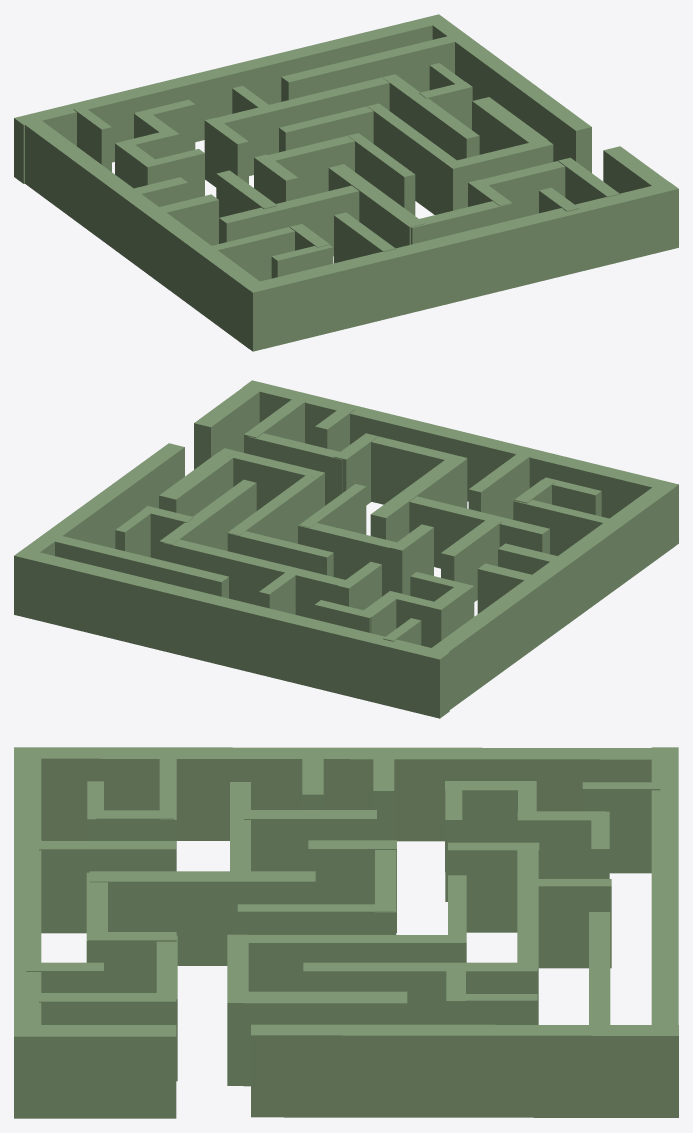
The model's file is Maze.fbx.
The picture shows the model from 3 angles, top to bottom: view 1: azimuth 30°, elevation 25°; view 2: azimuth 150°, elevation 25°; view 3: azimuth 270°, elevation 25°; orthographic projection. The views are drawn at different scales.
Parts seen in each view (by area): view 1: pCube41; view 2: pCube41; view 3: pCube41.
Boxes of the visible parts, box(x1,y1,x2,y2) form: pCube41: box(14, 14, 678, 351); pCube41: box(14, 380, 678, 718); pCube41: box(14, 747, 678, 1118).
Bounding box in the file's own units: 21.5 × 2.92 × 20.87.
